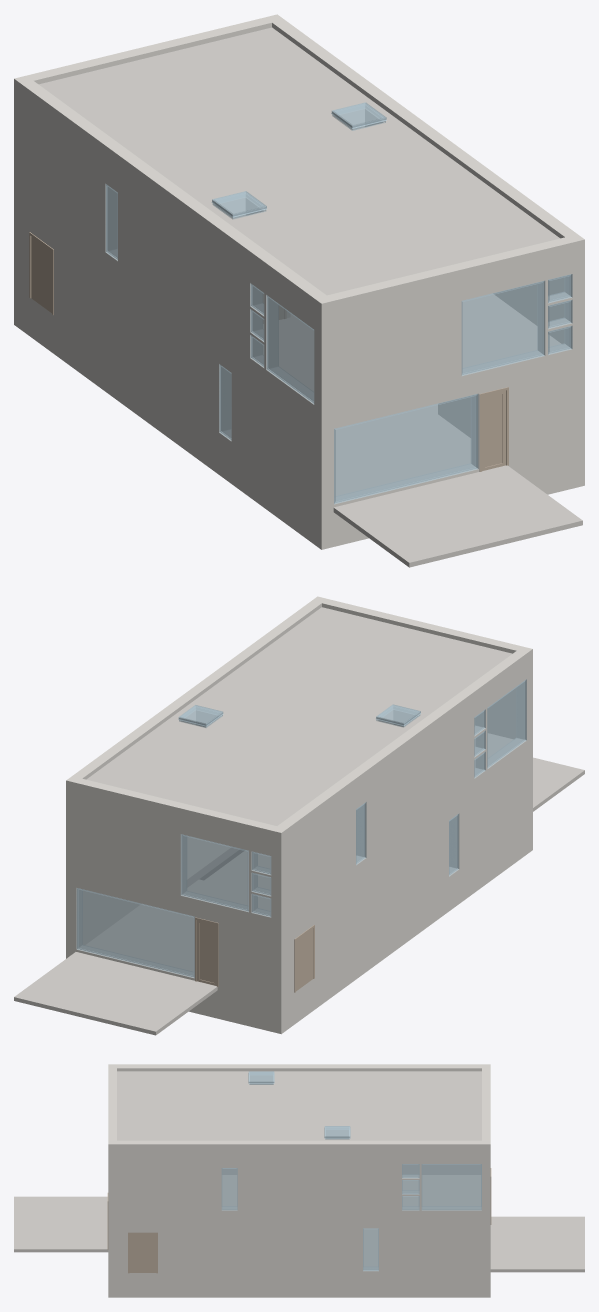
The picture shows the model from 3 angles, top to bottom: view 1: azimuth 30°, elevation 25°; view 2: azimuth 150°, elevation 25°; view 3: azimuth 270°, elevation 25°; orthographic projection. The views are drawn at different scales.
Parts seen in each view (by area): view 1: wall, slab, glazing, door; view 2: wall, slab, glazing, door; view 3: wall, slab, glazing, door.
Boxes of the visible parts, x1,y1,x2,y2 form: wall: [14, 14, 584, 549]; slab: [39, 27, 582, 567]; glazing: [105, 102, 572, 504]; door: [29, 232, 508, 471]; wall: [66, 596, 532, 1034]; slab: [14, 607, 584, 1035]; glazing: [76, 679, 526, 977]; door: [195, 917, 314, 992]; wall: [108, 1064, 490, 1297]; slab: [14, 1071, 584, 1272]; glazing: [221, 1071, 481, 1271]; door: [107, 1168, 491, 1273].
Size of the model in its own units: 8.85 by 7.88 by 26.57.
